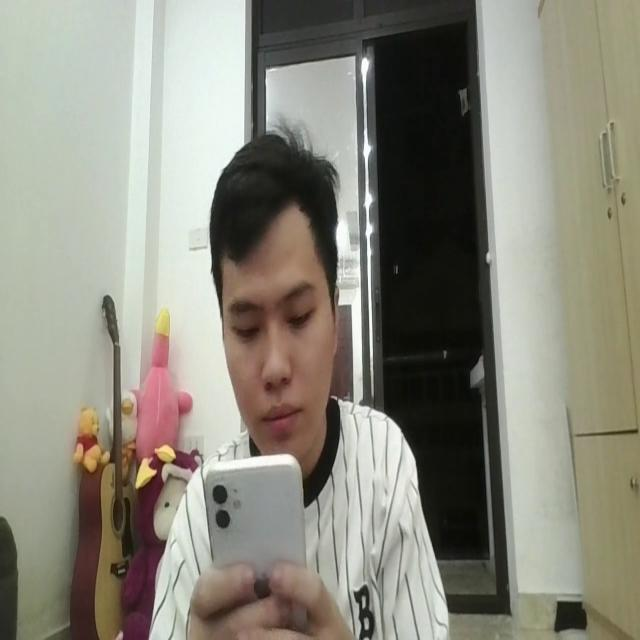phone: (204, 447, 310, 622)
student: (154, 126, 446, 640)
